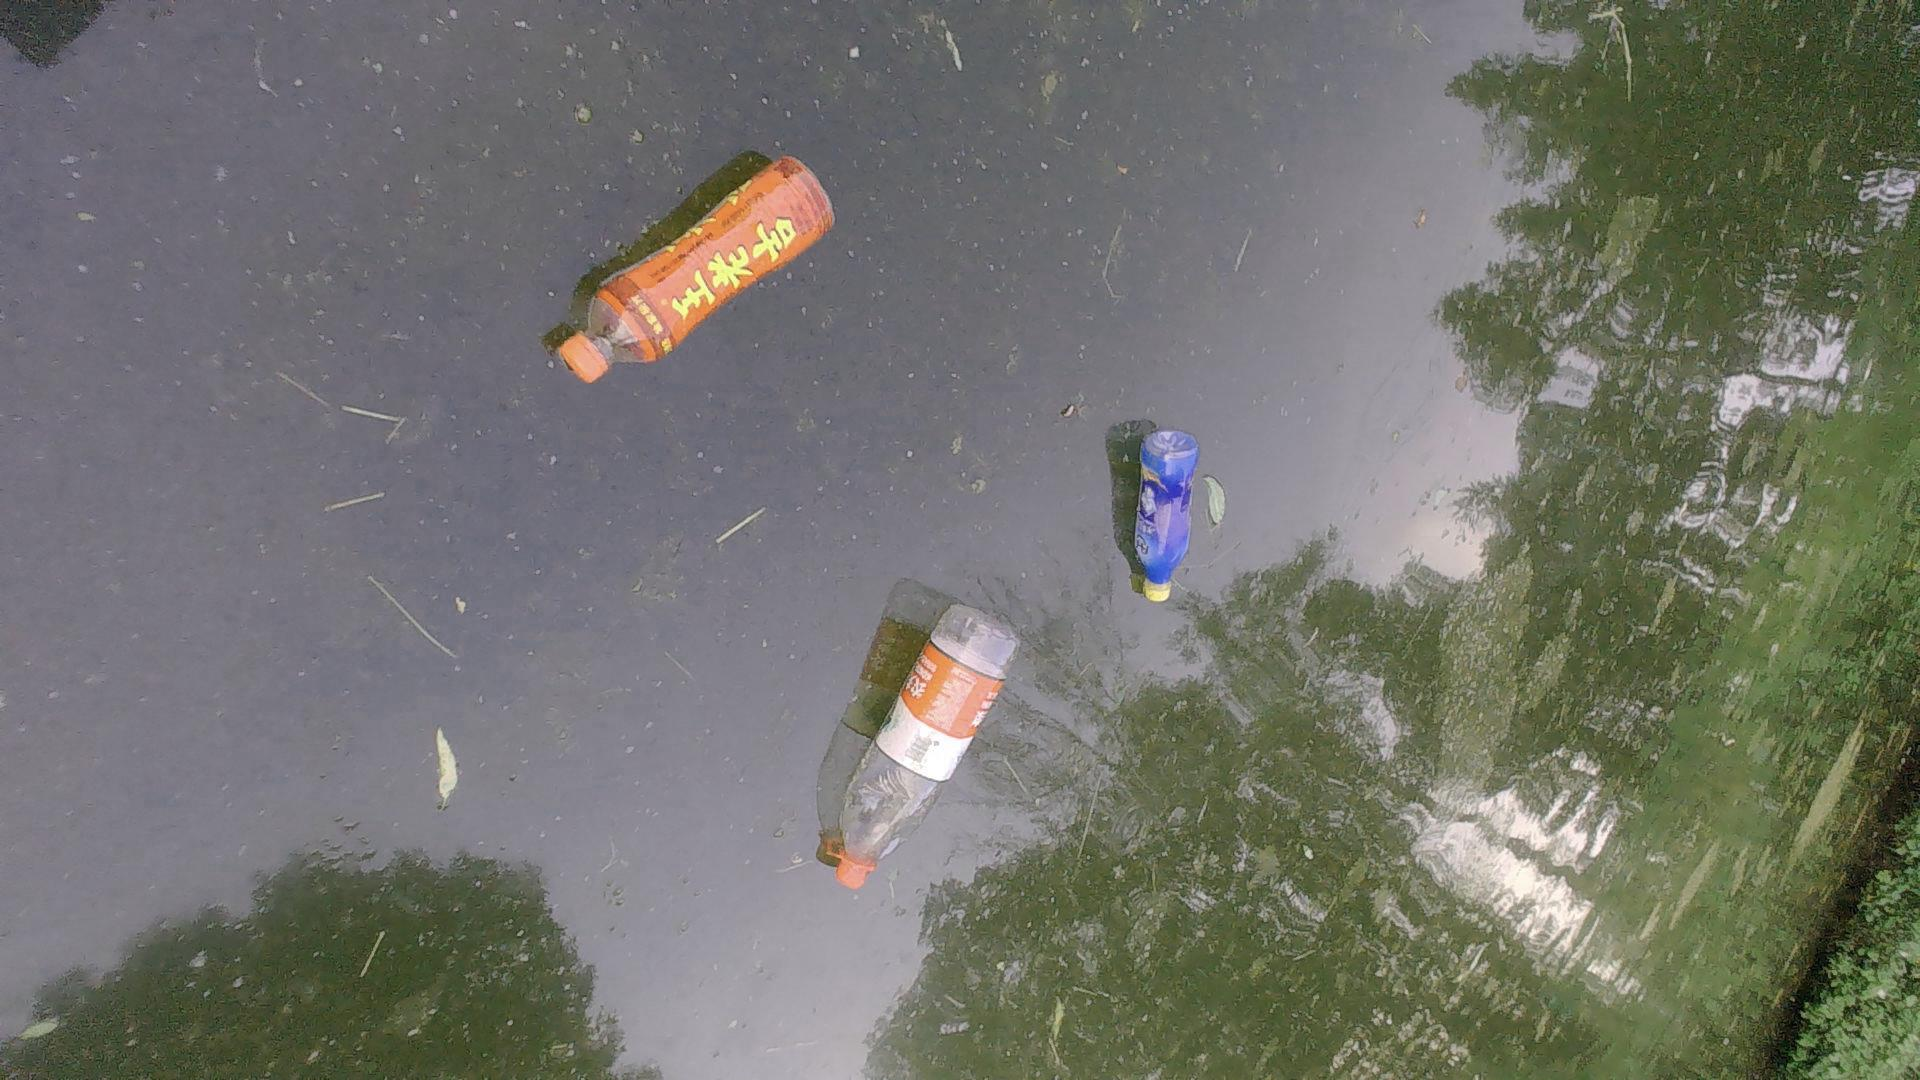Plastic: (549, 154, 843, 388), (822, 607, 1031, 893), (1106, 429, 1204, 601)
